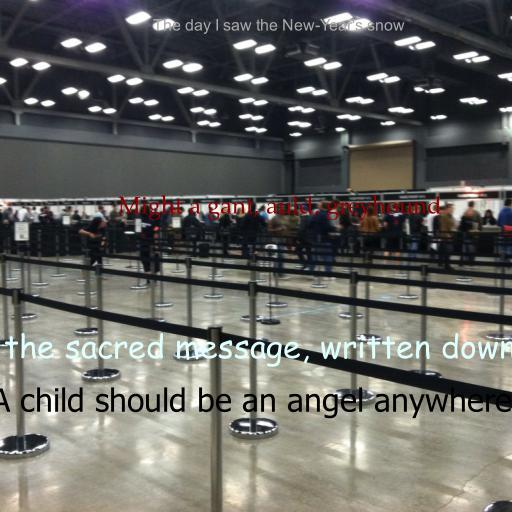Arial: (153, 19, 405, 34)
Comic Sans MS: (0, 332, 512, 367)
Palatino: (118, 194, 442, 221)
Tahoma: (0, 387, 512, 419)
